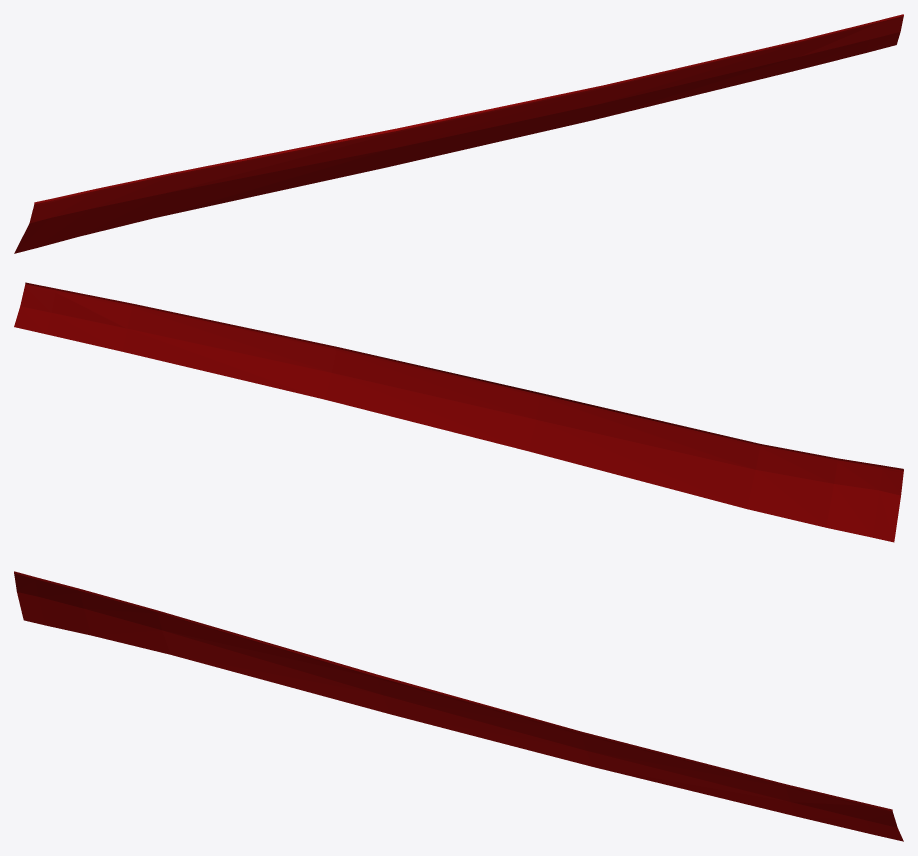
Rendered from skirt.002.dae.
The picture shows the model from 3 angles, top to bottom: view 1: azimuth 30°, elevation 25°; view 2: azimuth 150°, elevation 25°; view 3: azimuth 330°, elevation 25°; orthographic projection.
Visible parts, largest first — view 1: skirt; view 2: skirt; view 3: skirt.
Boxes of the visible parts, left/top/right/bottom form: skirt: left=14, top=14, right=903, bottom=253; skirt: left=14, top=282, right=903, bottom=542; skirt: left=14, top=571, right=903, bottom=841.
Bounding box in the file's own units: 220 × 8.57 × 15.29.
